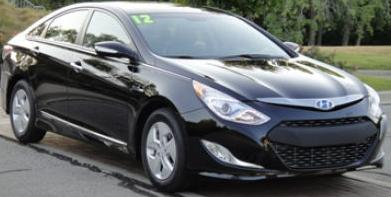front_view: (191, 77, 389, 183)
headlight: (188, 77, 272, 130)
side_glass: (21, 8, 147, 69)
